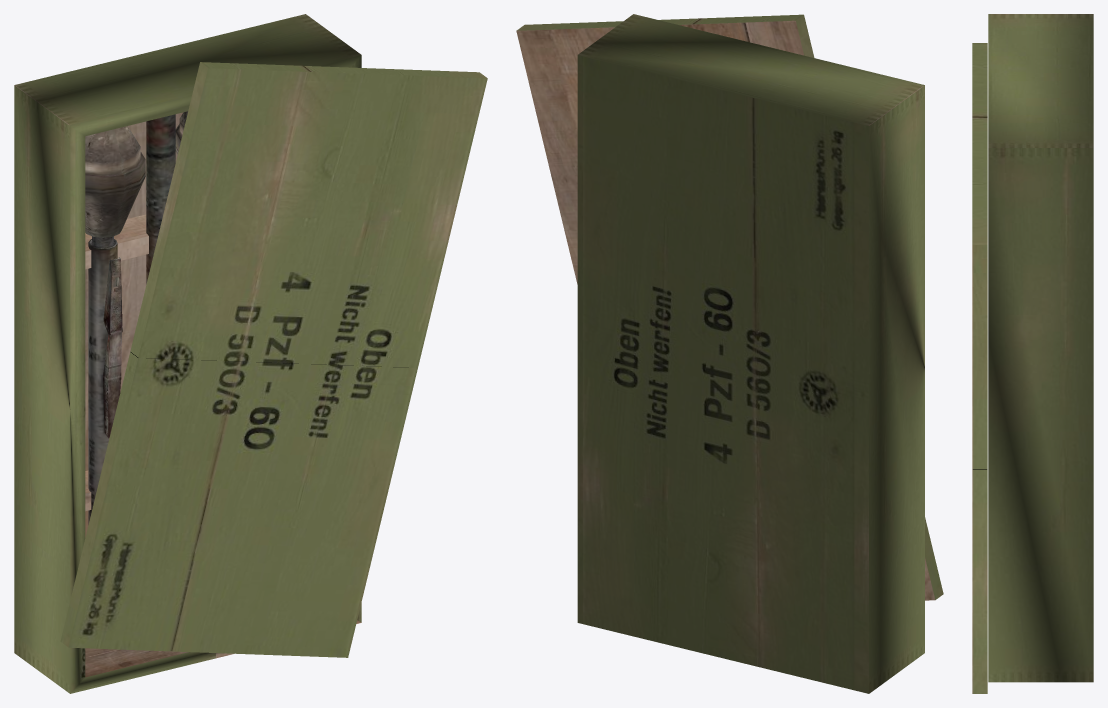
Rendered from military_panzerfaust_box_full.glb.
3 views of the same model, side by side, from view 1: azimuth 30°, elevation 25°; view 2: azimuth 150°, elevation 25°; view 3: azimuth 270°, elevation 25° (orthographic). The views are drawn at different scales.
Size of the model in its own units: 35.03 by 49.83 by 9.35.
3 materials, 3 textured.
